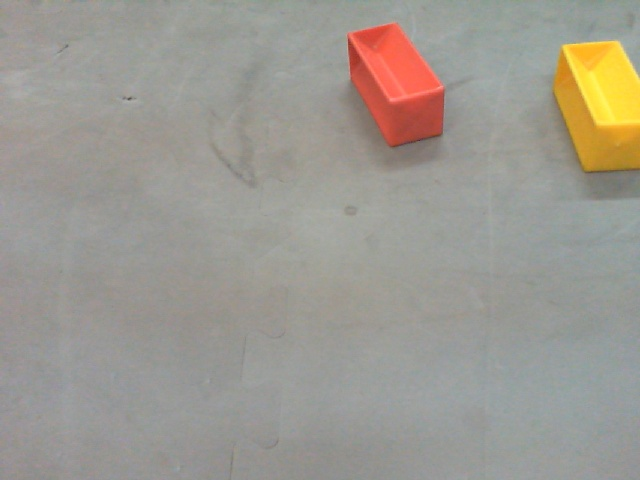RedSample: (341, 25, 449, 147)
YellowSample: (558, 42, 640, 171)
